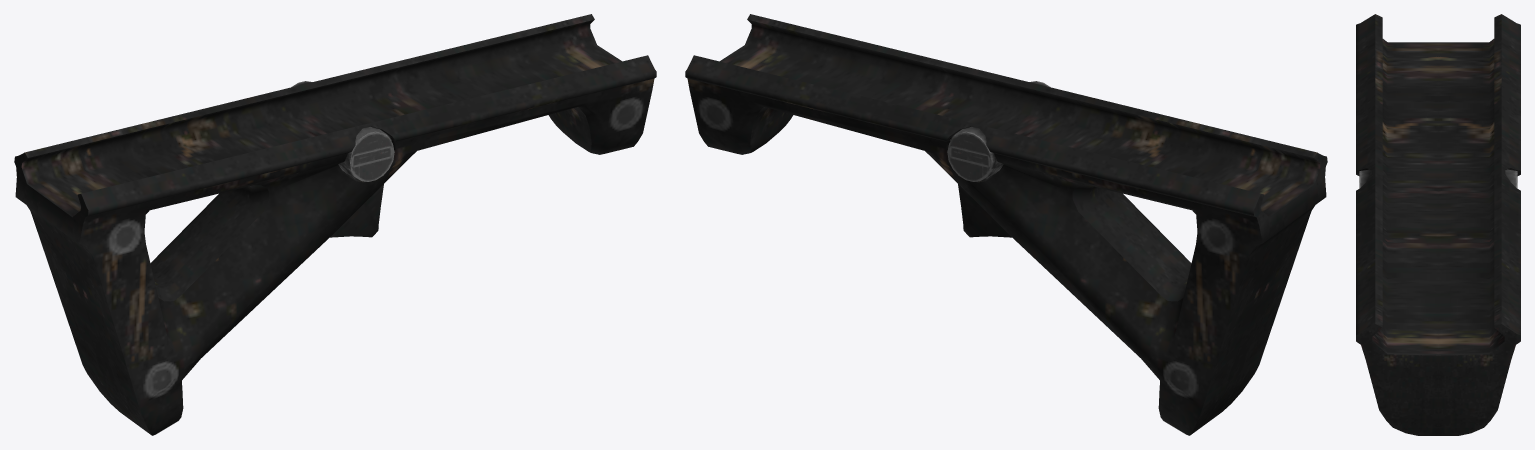
Rendered from ST_Grip_Angled.FBX.
3 views of the same model, side by side, from view 1: azimuth 30°, elevation 25°; view 2: azimuth 150°, elevation 25°; view 3: azimuth 270°, elevation 25° (orthographic). The views are drawn at different scales.
Visible parts, largest first — view 1: ST_Grip_Angled; view 2: ST_Grip_Angled; view 3: ST_Grip_Angled.
Boxes of the visible parts, x1,y1,x2,y2 form: ST_Grip_Angled: (14, 14, 656, 435); ST_Grip_Angled: (685, 14, 1327, 435); ST_Grip_Angled: (1356, 14, 1520, 435).
Bounding box in the file's own units: 12.14 × 5.58 × 2.69.
Materials: 1 (1 with a texture image).
